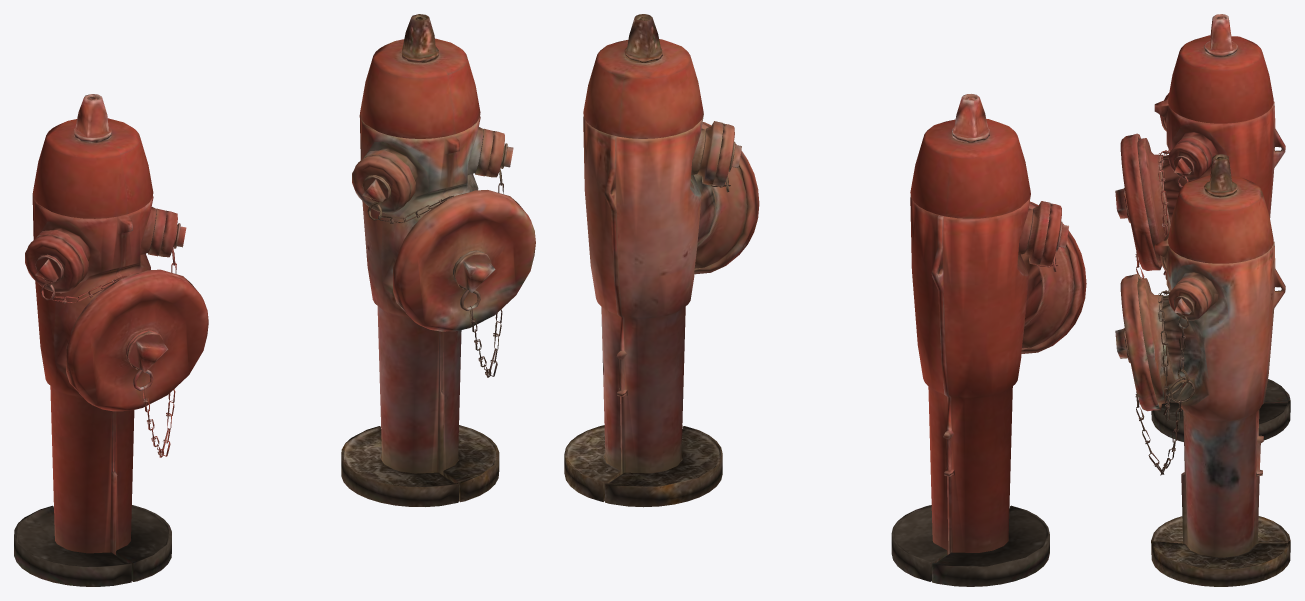
Rendered from fire_hydrant.glb.
The picture shows the model from 3 angles, left to right: view 1: azimuth 30°, elevation 25°; view 2: azimuth 150°, elevation 25°; view 3: azimuth 270°, elevation 25°; orthographic projection. The views are drawn at different scales.
Visible parts, largest first — view 1: fire_hydrant_aged, fire_hydrant, fire_hydrant_cap_01, fire_hydrant_cap_01_aged, fire_hydrant_cap_03_aged, fire_hydrant_cap_03, fire_hydrant_chain, fire_hydrant_chain_aged, fire_hydrant_cap_02_aged, fire_hydrant_cap_02; view 2: fire_hydrant, fire_hydrant_aged, fire_hydrant_cap_01, fire_hydrant_cap_01_aged, fire_hydrant_cap_03, fire_hydrant_cap_03_aged; view 3: fire_hydrant_aged, fire_hydrant, fire_hydrant_cap_01_aged, fire_hydrant_cap_01, fire_hydrant_chain_aged, fire_hydrant_cap_02_aged, fire_hydrant_cap_02, fire_hydrant_chain.
Part boxes in pixels (x1,y1,x2,y2): fire_hydrant_aged: (341,14,499,506); fire_hydrant: (14,94,171,586); fire_hydrant_cap_01: (66,269,208,411); fire_hydrant_cap_01_aged: (393,190,535,331); fire_hydrant_cap_03_aged: (352,155,410,213); fire_hydrant_cap_03: (25,235,83,293); fire_hydrant_chain: (40,224,177,457); fire_hydrant_chain_aged: (367,145,504,377); fire_hydrant_cap_02_aged: (485,131,513,177); fire_hydrant_cap_02: (158,210,186,257); fire_hydrant: (891,94,1074,586); fire_hydrant_aged: (564,14,747,507); fire_hydrant_cap_01: (1021,201,1086,353); fire_hydrant_cap_01_aged: (694,122,759,274); fire_hydrant_cap_03: (1039,203,1068,266); fire_hydrant_cap_03_aged: (712,123,741,186); fire_hydrant_aged: (1138,154,1290,586); fire_hydrant: (1138,14,1290,441); fire_hydrant_cap_01_aged: (1115,273,1161,411); fire_hydrant_cap_01: (1115,133,1161,270); fire_hydrant_chain_aged: (1135,290,1195,475); fire_hydrant_cap_02_aged: (1168,281,1207,320); fire_hydrant_cap_02: (1168,141,1207,180); fire_hydrant_chain: (1135,150,1193,279).
Bounding box in the file's own units: 0.8745 × 0.7994 × 0.3173.
2 materials, 2 textured.
